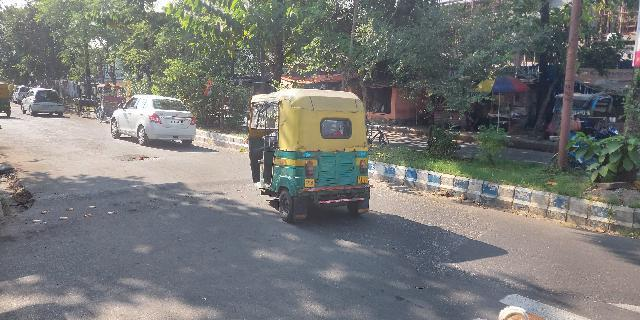Autorickshaw: (247, 91, 384, 221)
Car: (111, 87, 201, 149), (23, 84, 68, 119)
